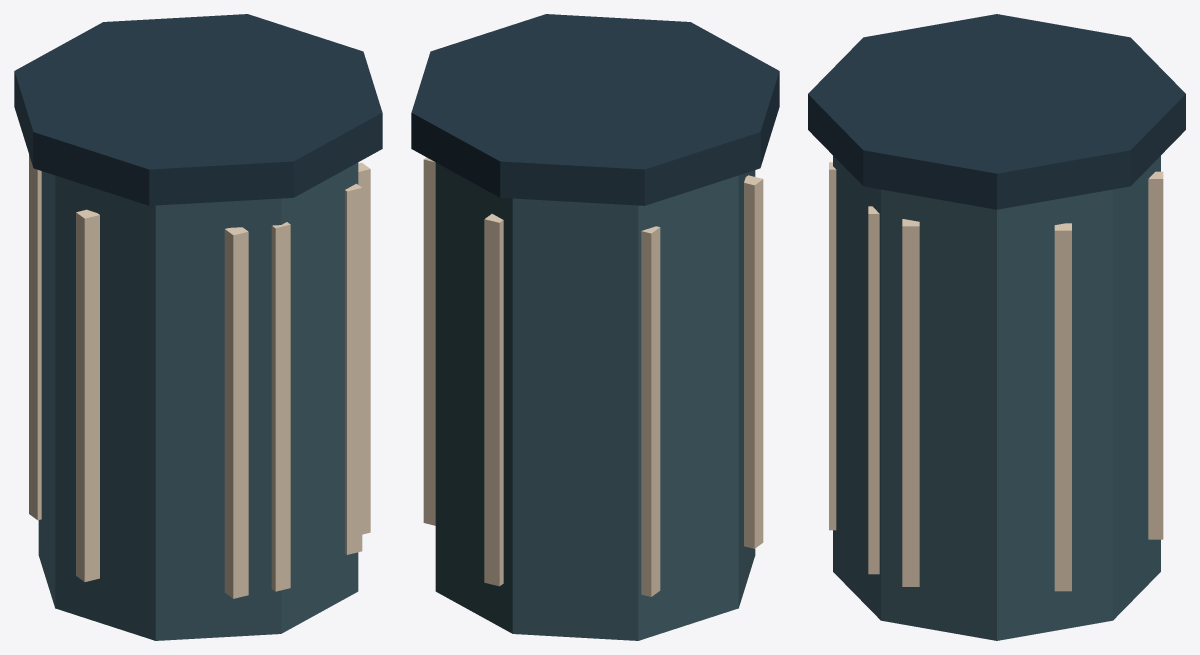
The model's file is bin.obj.
3 renders of one model, left to right at view 1: azimuth 30°, elevation 25°; view 2: azimuth 150°, elevation 25°; view 3: azimuth 270°, elevation 25°, orthographic.
Parts seen in each view (by area): view 1: bin; view 2: bin; view 3: bin.
Boxes of the visible parts, x1,y1,x2,y2 form: bin: (14,14,382,640); bin: (411,14,779,640); bin: (808,14,1185,640).
Size of the model in its own units: 0.76 by 1.06 by 0.76.
